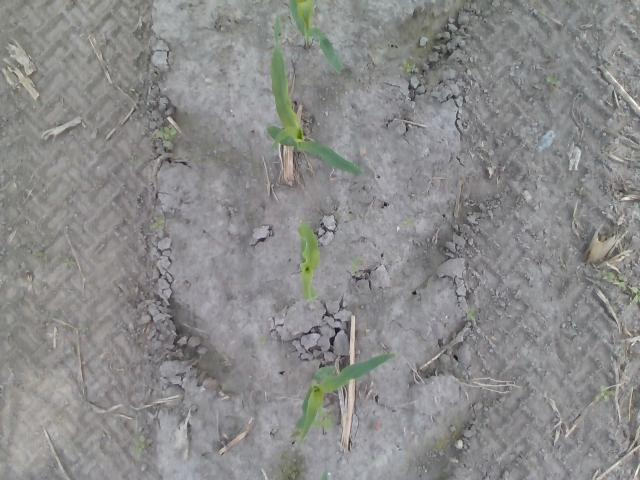Maize: (264, 16, 364, 174), (288, 352, 396, 447), (288, 0, 343, 76), (296, 220, 320, 301), (288, 471, 329, 480)
Weeds: (314, 408, 336, 434), (156, 126, 177, 147), (602, 270, 625, 288), (596, 384, 614, 402), (351, 256, 364, 276), (136, 434, 146, 458), (627, 286, 640, 304), (398, 59, 414, 73), (150, 218, 165, 232), (36, 250, 50, 260), (402, 218, 417, 227), (64, 255, 76, 266), (465, 308, 475, 320), (546, 76, 560, 84), (257, 334, 267, 344), (576, 186, 586, 193), (526, 460, 532, 469), (130, 155, 136, 162)
